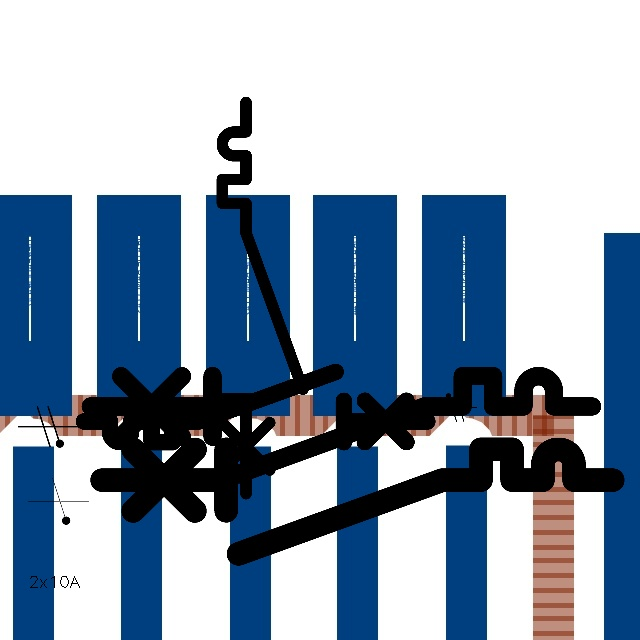interruptor_termomagnetico: (88, 436, 626, 567), (77, 363, 604, 492), (212, 92, 313, 504), (75, 363, 436, 451)
